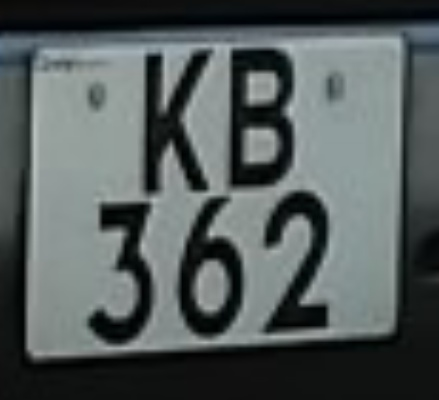2: (250, 183, 347, 343)
3: (77, 191, 171, 352)
6: (165, 193, 256, 344)
B: (212, 31, 308, 198)
K: (123, 38, 217, 205)
